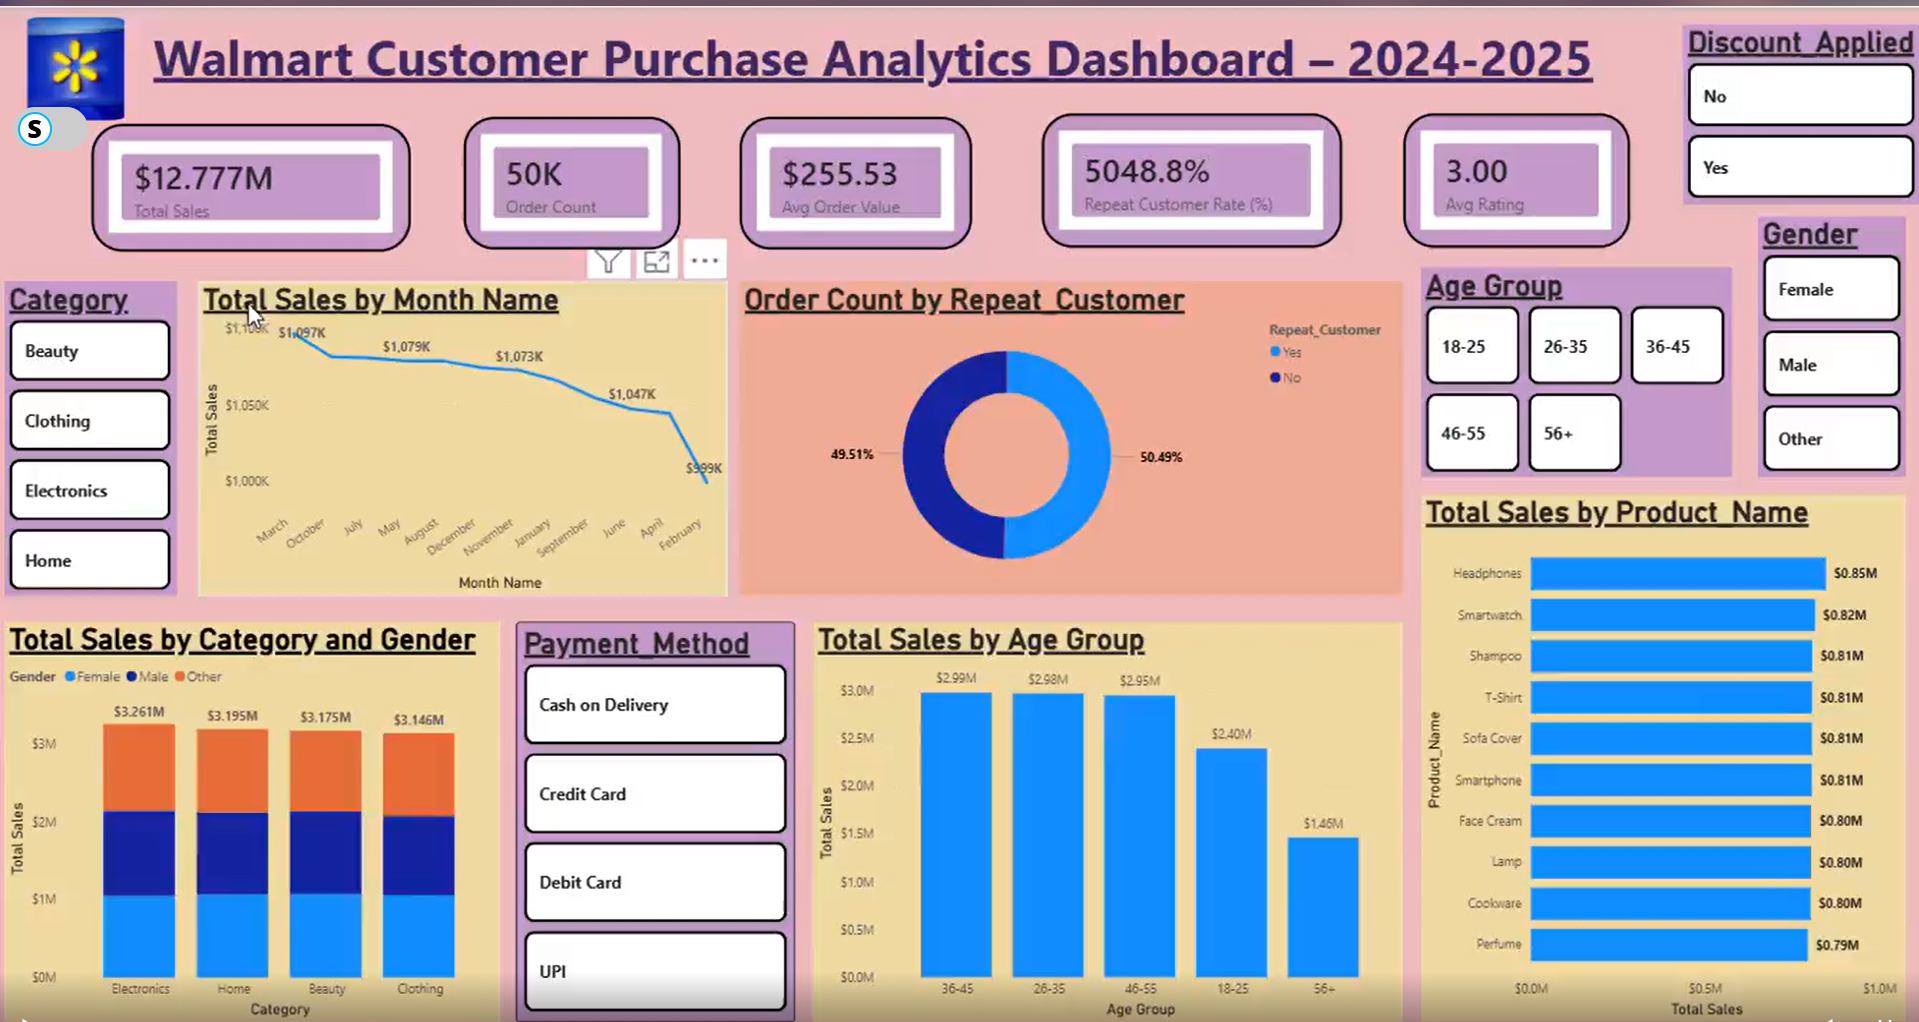

What the dashboard file says about the page in this screenshot:
{"tool":"powerbi","page":{"name":"DASHBOARD","canvas":[1879,1000],"ordinal":0},"visuals":[{"type":"cardVisual","title":"TOTAL SALES","fields":{"Data":["Date.Total Sales"]},"box":[92.2,104.1,312.4,124.6],"z":0},{"type":"cardVisual","title":"AVERAGE ORDER VALUE","fields":{"Data":["Date.Avg Order Value"]},"box":[725.5,97.3,227,129.7],"z":1000},{"type":"cardVisual","title":"AVERAGE RATING","fields":{"Data":["Date.Avg Rating"]},"box":[1367.3,93.9,221.9,131.4],"z":2000},{"type":"cardVisual","title":"REPEAT CUSTOMER RATE","fields":{"Data":["Date.Repeat Customer Rate (%)"]},"box":[1020.8,93.9,293.6,131.4],"z":3000},{"type":"lineChart","fields":{"Y":["Date.Total Sales"],"Category":["Date.Month Name"]},"box":[196.3,257.7,517.2,307.3],"z":4000},{"type":"columnChart","fields":{"Category":["Walmart_customer_purchases.Category"],"Y":["Date.Total Sales"],"Series":["Walmart_customer_purchases.Gender"]},"box":[6.8,590.6,484.8,390.9],"z":5000},{"type":"donutChart","fields":{"Category":["Walmart_customer_purchases.Repeat_Customer"],"Y":["Date.Order Count"]},"box":[725.5,257.7,648.6,307.3],"z":6000},{"type":"barChart","fields":{"Y":["Date.Total Sales"],"Category":["Walmart_customer_purchases.Product_Name"]},"box":[1391.2,466,474.5,515.5],"z":7000},{"type":"advancedSlicerVisual","fields":{"Values":["Walmart_customer_purchases.Age Group"]},"box":[1391.2,244.1,303.8,204.8],"z":8000},{"type":"advancedSlicerVisual","fields":{"Values":["Walmart_customer_purchases.Gender"]},"box":[1708.7,194.6,157,254.3],"z":9000},{"type":"advancedSlicerVisual","fields":{"Values":["Walmart_customer_purchases.Category"]},"box":[6.8,257.7,169,307.3],"z":10000},{"type":"textbox","box":[122.9,0,1466.3,80.2],"z":11000},{"type":"cardVisual","fields":{"Data":["Date.Order Count"]},"box":[455.8,97.3,211.7,129.7],"z":12000},{"type":"advancedSlicerVisual","fields":{"Values":["Walmart_customer_purchases.Payment_Method"]},"box":[507,590.6,273.1,390.9],"z":13000},{"type":"advancedSlicerVisual","fields":{"Values":["Walmart_customer_purchases.Discount_Applied"]},"box":[1596,6.8,283.4,187.8],"z":14000},{"type":"clusteredColumnChart","fields":{"Category":["Walmart_customer_purchases.Age Group"],"Y":["Date.Total Sales"]},"box":[797.1,590.6,576.9,390.9],"z":15000},{"type":"image","box":[0,0,153.6,100.7],"z":16000}]}

Visuals, with their boxes on the page's 1879x1000 design canvas (x1, y1, x2, y2). These are canvas units, not pixel positions in the 1919x1022 screenshot, which may show the page scaled, cropped or inside an application window:
"TOTAL SALES" cardVisual: 92/104/405/229
"AVERAGE ORDER VALUE" cardVisual: 726/97/952/227
"AVERAGE RATING" cardVisual: 1367/94/1589/225
"REPEAT CUSTOMER RATE" cardVisual: 1021/94/1314/225
lineChart - Date.Total Sales x Date.Month Name: 196/258/714/565
columnChart - Walmart_customer_purchases.Category x Date.Total Sales: 7/591/492/982
donutChart - Walmart_customer_purchases.Repeat_Customer x Date.Order Count: 726/258/1374/565
barChart - Date.Total Sales x Walmart_customer_purchases.Product_Name: 1391/466/1866/982
advancedSlicerVisual - Walmart_customer_purchases.Age Group: 1391/244/1695/449
advancedSlicerVisual - Walmart_customer_purchases.Gender: 1709/195/1866/449
advancedSlicerVisual - Walmart_customer_purchases.Category: 7/258/176/565
textbox: 123/0/1589/80
cardVisual - Date.Order Count: 456/97/668/227
advancedSlicerVisual - Walmart_customer_purchases.Payment_Method: 507/591/780/982
advancedSlicerVisual - Walmart_customer_purchases.Discount_Applied: 1596/7/1879/195
clusteredColumnChart - Walmart_customer_purchases.Age Group x Date.Total Sales: 797/591/1374/982
image: 0/0/154/101
